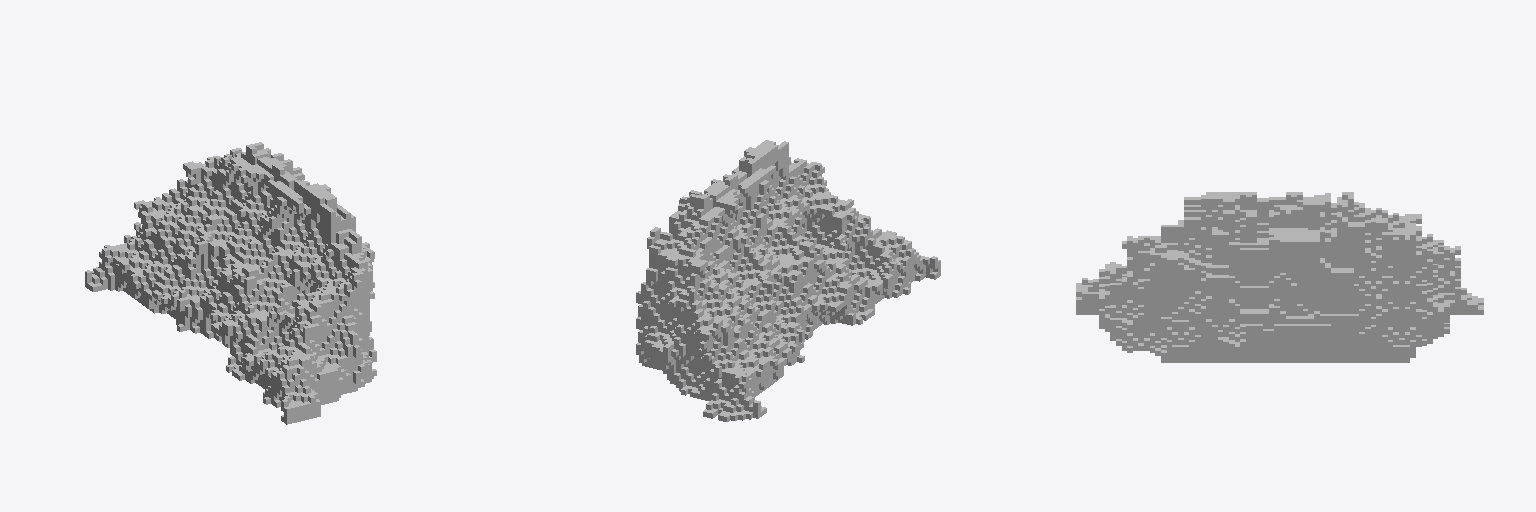
The model's file is wave.obj.
The picture shows the model from 3 angles: view 1: azimuth 30°, elevation 25°; view 2: azimuth 150°, elevation 25°; view 3: azimuth 270°, elevation 25°; orthographic projection.
Visible parts, largest first — view 1: Model; view 2: Model; view 3: Model.
Part boxes in pixels (left/top/right/bottom): Model: left=85, top=142, right=376, bottom=424; Model: left=636, top=140, right=940, bottom=421; Model: left=1076, top=192, right=1483, bottom=362.
Bounding box in the file's own units: 14.67 × 13.33 × 32.